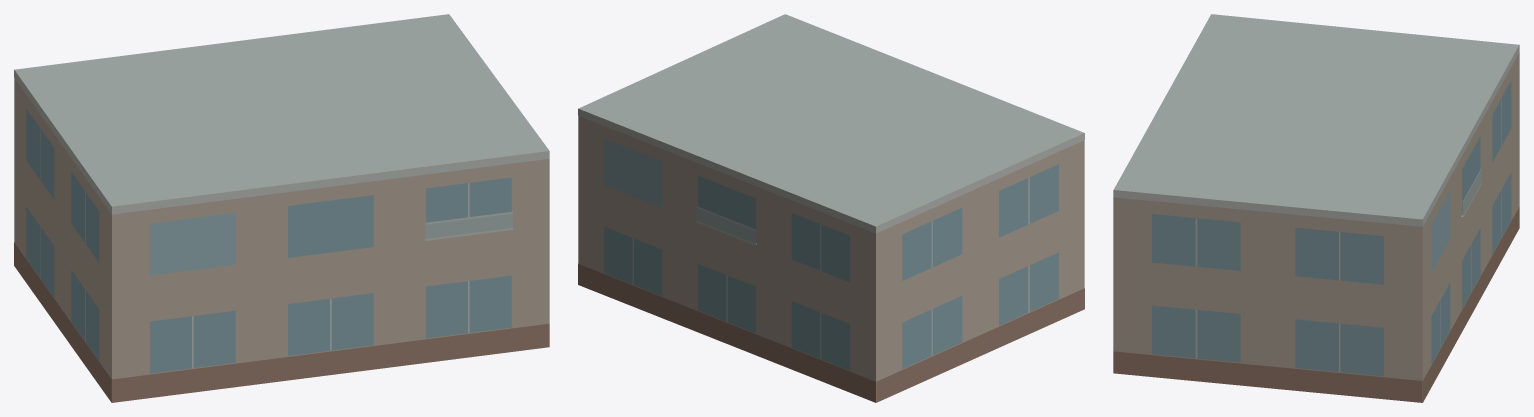
File: survey-upis-32870211.glb
3 renders of one model, left to right at view 1: azimuth 30°, elevation 25°; view 2: azimuth 150°, elevation 25°; view 3: azimuth 270°, elevation 25°, orthographic. The views are drawn at different scales.
Visible parts, largest first — view 1: survey-upis-32870211.tmp; view 2: survey-upis-32870211.tmp; view 3: survey-upis-32870211.tmp.
Boxes of the visible parts, x1,y1,x2,y2 form: survey-upis-32870211.tmp: (14, 14, 549, 402); survey-upis-32870211.tmp: (578, 14, 1084, 402); survey-upis-32870211.tmp: (1113, 14, 1519, 402).
Size of the model in its own units: 14.67 by 6.1 by 12.25.
